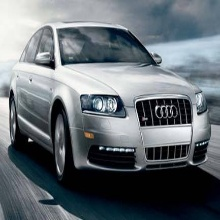no damage: (7, 21, 211, 180)
